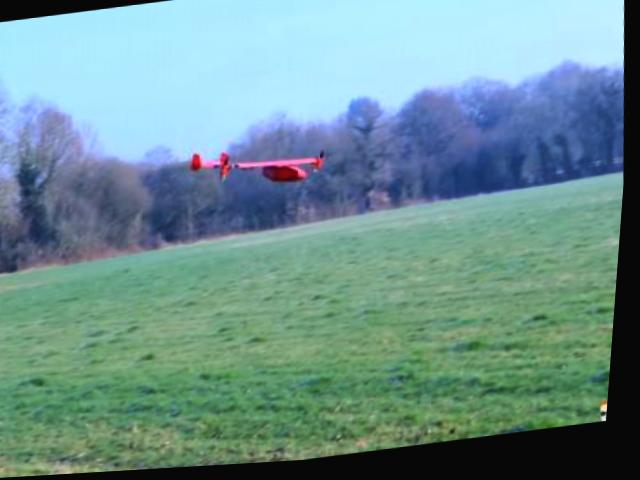uav: (186, 128, 331, 201)
